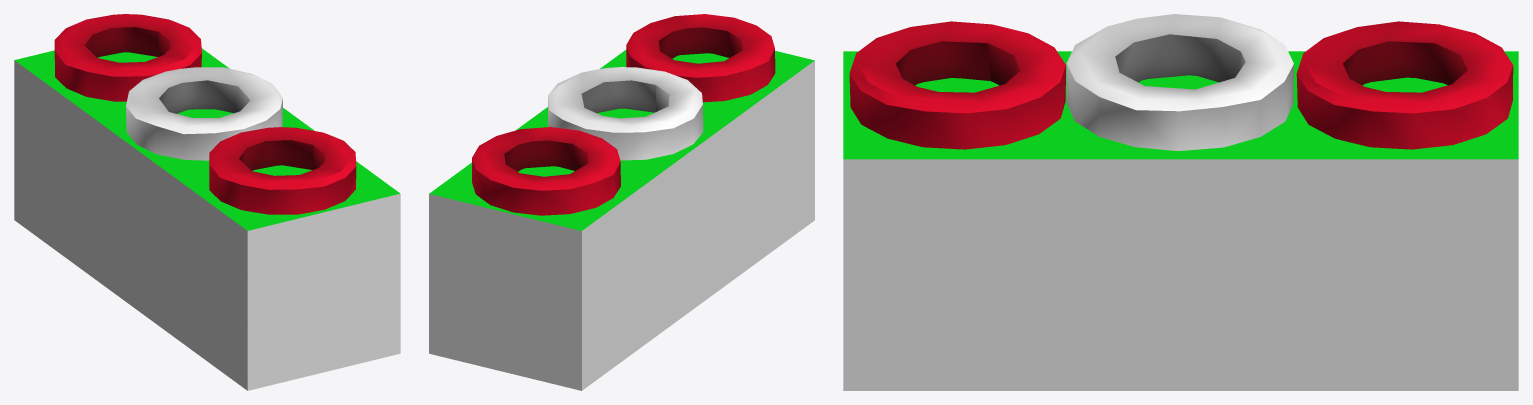
The model's file is Wall_Tire.fbx.
The picture shows the model from 3 angles, left to right: view 1: azimuth 30°, elevation 25°; view 2: azimuth 150°, elevation 25°; view 3: azimuth 270°, elevation 25°; orthographic projection. The views are drawn at different scales.
Parts seen in each view (by area): view 1: Tyrewall; view 2: Tyrewall; view 3: Tyrewall.
Part boxes in pixels (x1,y1,x2,y2): Tyrewall: (14,14,400,390); Tyrewall: (429,14,814,390); Tyrewall: (843,14,1518,390).
Bounding box in the file's own units: 125 × 149 × 329.
